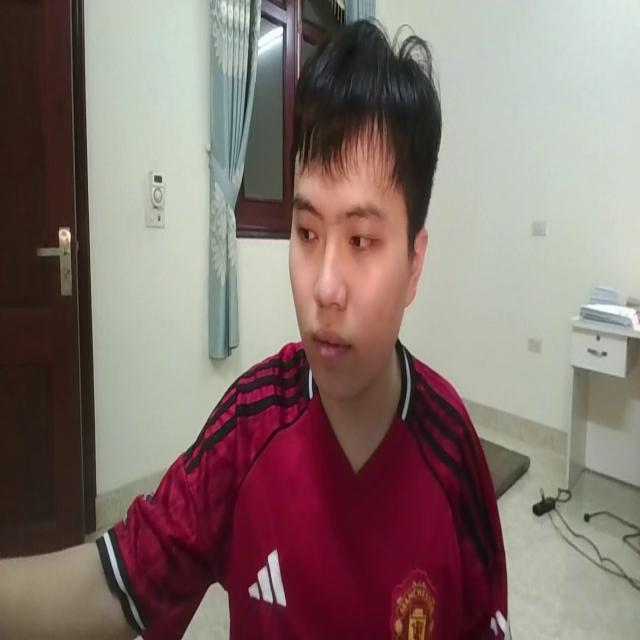student: (3, 14, 511, 640)
